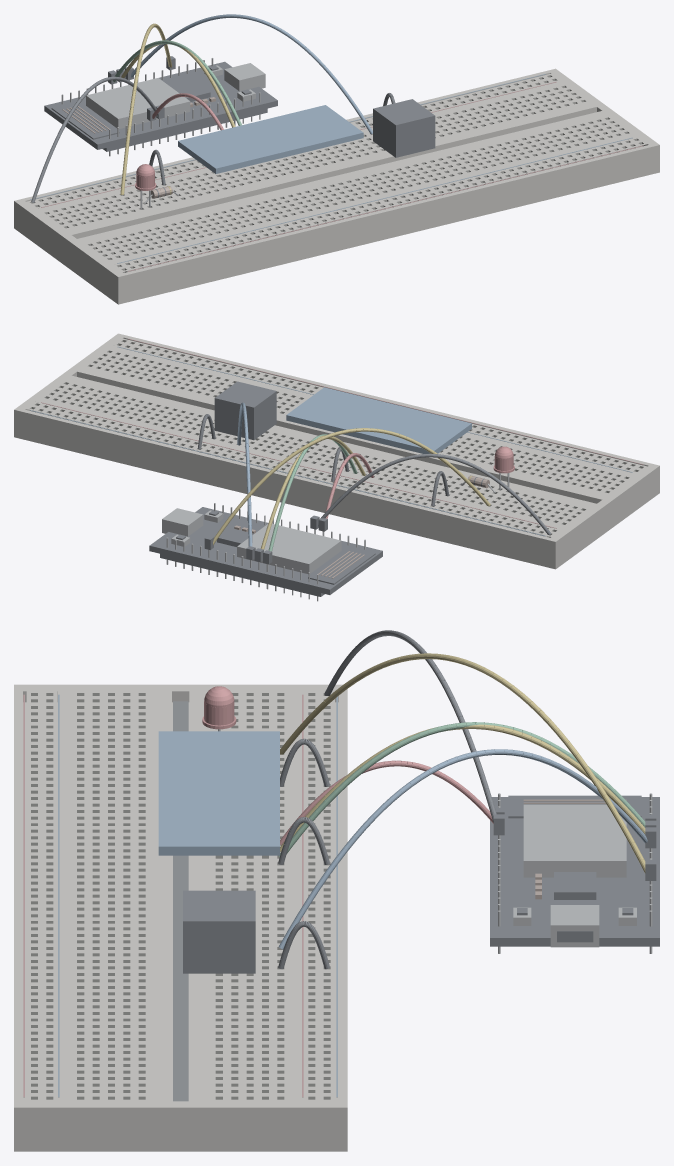
The model's file is step-15.glb.
3 views of the same model, one above another, from view 1: azimuth 30°, elevation 25°; view 2: azimuth 150°, elevation 25°; view 3: azimuth 270°, elevation 25° (orthographic). The views are drawn at different scales.
Visible parts, largest first — view 1: breadboard__mesh, uno__mesh, sensor__mesh, buzzer__mesh, wire_buzzer_signal__mesh, wire_led_signal__mesh, wire_ground__mesh, wire_sensor_echo__mesh, wire_sensor_trig__mesh, led_red__mesh, wire_sensor_power__mesh; view 2: breadboard__mesh, uno__mesh, sensor__mesh, buzzer__mesh, wire_led_signal__mesh, wire_ground__mesh, wire_buzzer_signal__mesh, wire_sensor_echo__mesh, wire_sensor_trig__mesh, led_red__mesh, wire_sensor_power__mesh; view 3: breadboard__mesh, uno__mesh, sensor__mesh, buzzer__mesh, wire_led_signal__mesh, wire_buzzer_signal__mesh, wire_sensor_echo__mesh, wire_ground__mesh, wire_sensor_trig__mesh, led_red__mesh, wire_sensor_power__mesh.
Part boxes in pixels (x1,y1,x2,y2): breadboard__mesh: (14, 68, 659, 304); uno__mesh: (44, 58, 277, 156); sensor__mesh: (178, 105, 363, 173); buzzer__mesh: (373, 99, 435, 157); wire_buzzer_signal__mesh: (124, 14, 372, 134); wire_led_signal__mesh: (120, 23, 175, 194); wire_ground__mesh: (31, 76, 164, 202); wire_sensor_echo__mesh: (108, 40, 241, 125); wire_sensor_trig__mesh: (116, 40, 235, 127); led_red__mesh: (135, 164, 156, 209); wire_sensor_power__mesh: (147, 93, 223, 130); breadboard__mesh: (14, 333, 659, 569); uno__mesh: (149, 503, 382, 601); sensor__mesh: (286, 387, 471, 453); buzzer__mesh: (214, 381, 276, 440); wire_led_signal__mesh: (204, 428, 490, 549); wire_ground__mesh: (310, 453, 551, 534); wire_buzzer_signal__mesh: (237, 402, 255, 560); wire_sensor_echo__mesh: (263, 434, 357, 564); wire_sensor_trig__mesh: (254, 435, 365, 562); led_red__mesh: (493, 446, 514, 489); wire_sensor_power__mesh: (318, 453, 373, 531); breadboard__mesh: (14, 684, 347, 1151); uno__mesh: (490, 793, 659, 953); sensor__mesh: (158, 731, 279, 855); buzzer__mesh: (183, 890, 255, 973); wire_led_signal__mesh: (280, 653, 656, 880); wire_buzzer_signal__mesh: (278, 749, 656, 949); wire_sensor_echo__mesh: (279, 722, 656, 856); wire_ground__mesh: (324, 630, 504, 835); wire_sensor_trig__mesh: (280, 724, 656, 851); led_red__mesh: (202, 686, 236, 731); wire_sensor_power__mesh: (280, 760, 504, 845).
Bounding box in the file's own units: 0.165 × 0.0366 × 0.1065.
